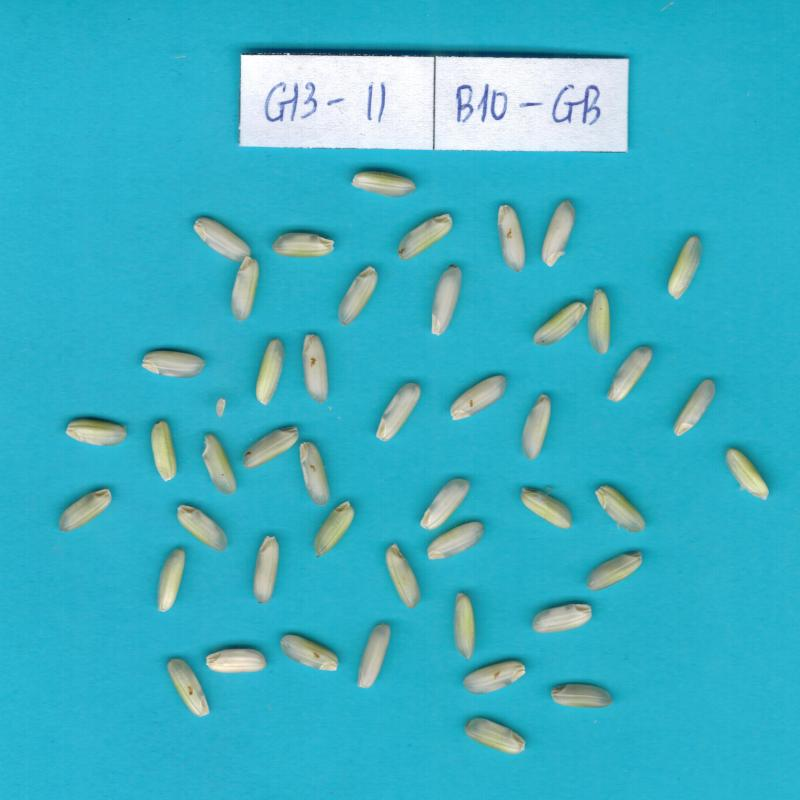Rice: (194, 217, 251, 262), (607, 346, 652, 402), (450, 375, 506, 420), (376, 384, 420, 441), (167, 658, 209, 717), (398, 214, 453, 259), (421, 479, 470, 529), (243, 426, 299, 469), (595, 485, 645, 533), (533, 302, 587, 346), (177, 505, 227, 552), (674, 379, 715, 436), (339, 266, 378, 325), (314, 501, 355, 557), (59, 489, 112, 532), (427, 521, 484, 560), (386, 544, 420, 609), (587, 551, 642, 591), (726, 448, 769, 499), (542, 200, 575, 266), (667, 235, 701, 299), (465, 718, 525, 754), (358, 624, 391, 688), (431, 267, 462, 335), (202, 434, 236, 495), (281, 635, 338, 671), (463, 661, 525, 694), (521, 488, 572, 528), (522, 393, 551, 459), (231, 256, 260, 320), (256, 339, 284, 405), (300, 442, 329, 505), (498, 205, 525, 272), (253, 536, 280, 603), (532, 604, 592, 633), (352, 171, 416, 198), (158, 548, 185, 612), (303, 334, 328, 403), (142, 351, 205, 378), (66, 419, 126, 446), (273, 232, 334, 258), (151, 420, 176, 481), (552, 683, 612, 708), (454, 593, 476, 659), (207, 649, 267, 673), (589, 289, 610, 354)
